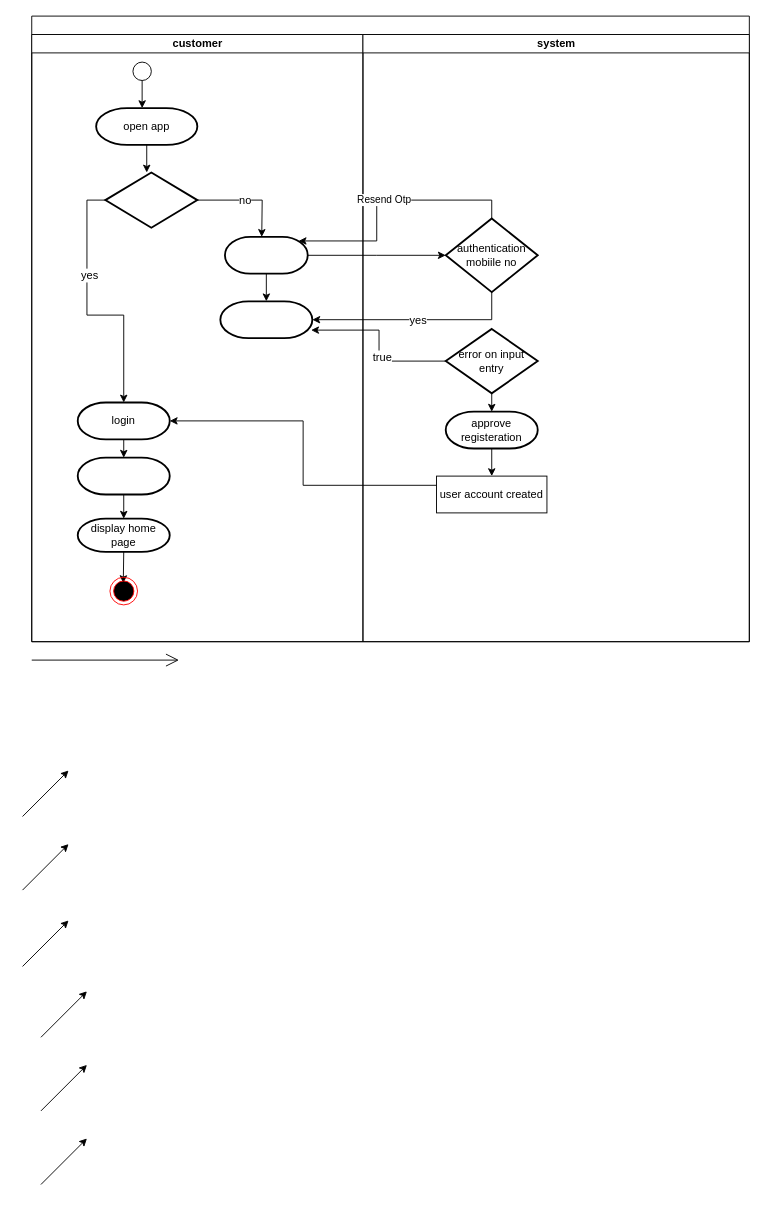
This 765x1208 diagram has some shape labels left out. The centre of each missing label's shape, as x and y in pixels:
enter phone and password: the point at 123,475
enter required input field: the point at 266,319
enter sign up with phone no: the point at 266,255
have account: the point at 151,199
